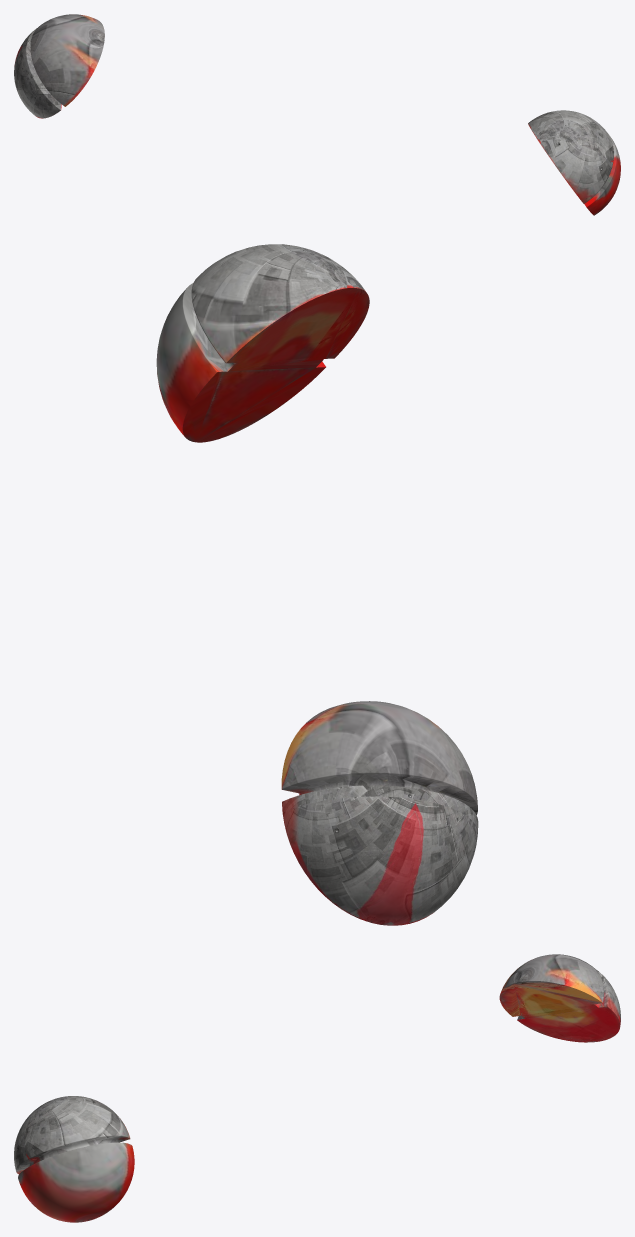
The model's file is Drone166_000042.obj.
3 views of the same model, one above another, from view 1: azimuth 30°, elevation 25°; view 2: azimuth 150°, elevation 25°; view 3: azimuth 270°, elevation 25° (orthographic). The views are drawn at different scales.
Parts seen in each view (by area): view 1: Sphere.000_Sphere.004, Sphere.001_Sphere.005; view 2: Sphere.000_Sphere.004, Sphere.001_Sphere.005; view 3: Sphere.001_Sphere.005, Sphere.000_Sphere.004.
Part boxes in pixels (box(x1,y1,x2,y2)): Sphere.000_Sphere.004: box(14, 14, 104, 118); Sphere.001_Sphere.005: box(528, 110, 620, 215); Sphere.000_Sphere.004: box(281, 701, 478, 925); Sphere.001_Sphere.005: box(156, 244, 369, 442); Sphere.001_Sphere.005: box(14, 1096, 134, 1222); Sphere.000_Sphere.004: box(499, 954, 620, 1042).
Size of the model in its own units: 7.78 by 1.98 by 10.17.
Materials: 4 (4 with a texture image).
